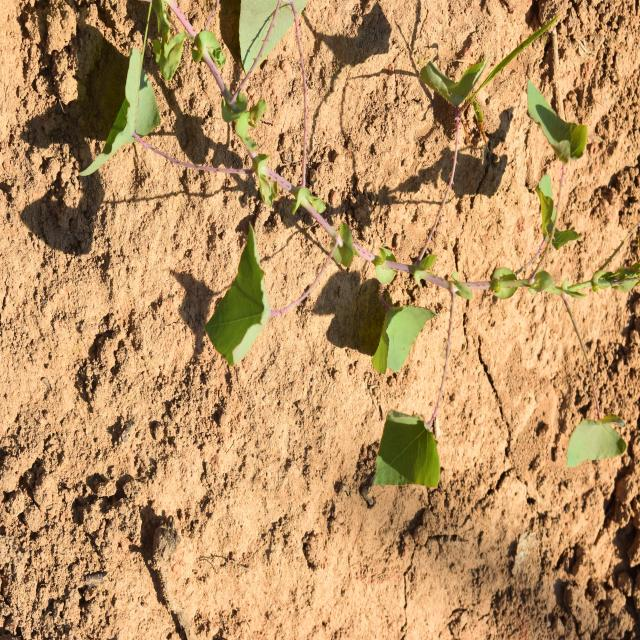Asiatic_Smartweed: (343, 281, 467, 513), (184, 208, 280, 360), (84, 61, 184, 188), (515, 82, 596, 196)
